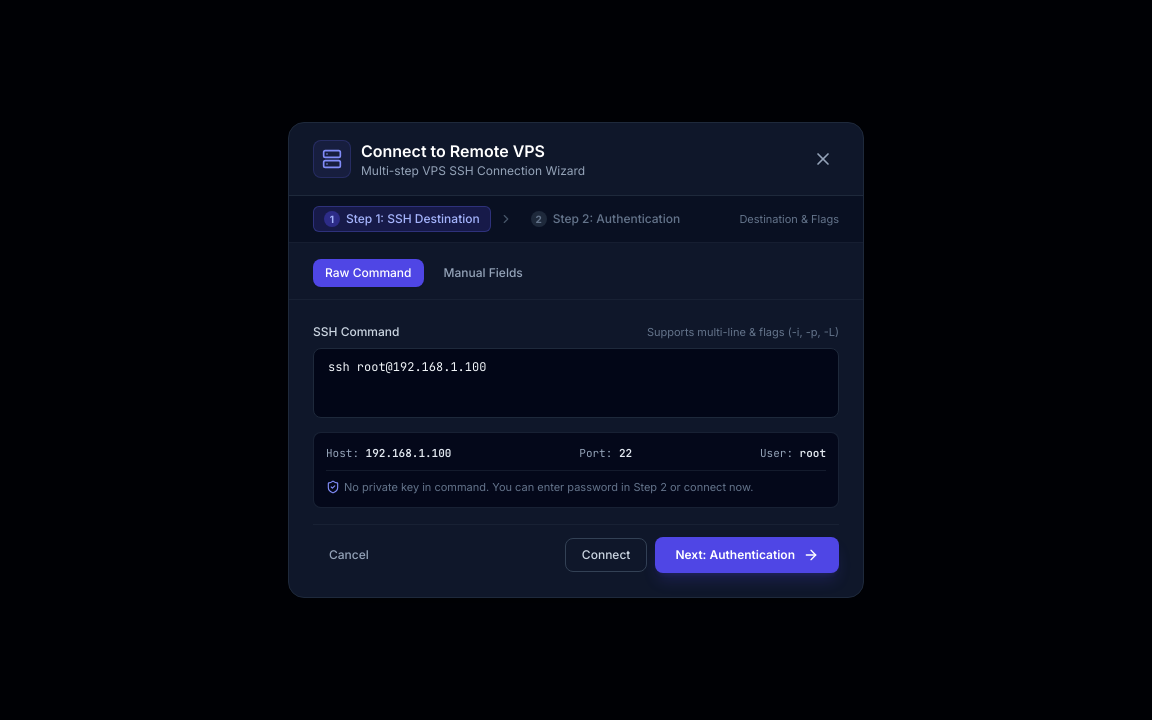
Test case: ConnectModal Component (TDD) › should parse raw SSH command and show preview in real time
Replace the text in the text box showing "ssh root@192.168.1.100" with "ssh -p 2222 ubuntu@ec2-test.com" at (576,383), box x1=313 y1=348 x2=839 y2=418
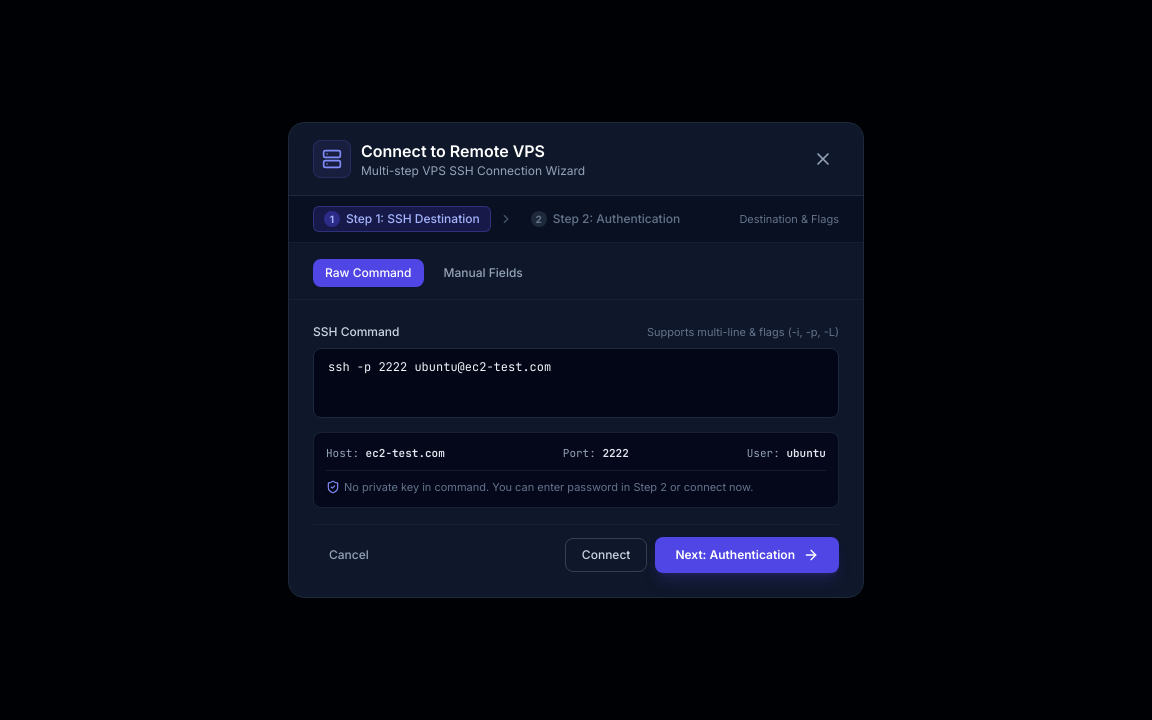
Now the text "ec2-test.com" is shown, box x1=366 y1=446 x2=445 y2=460
Now the text "2222" is shown, box x1=602 y1=446 x2=629 y2=460
Now the text "ubuntu" is shown, box x1=786 y1=446 x2=826 y2=460
